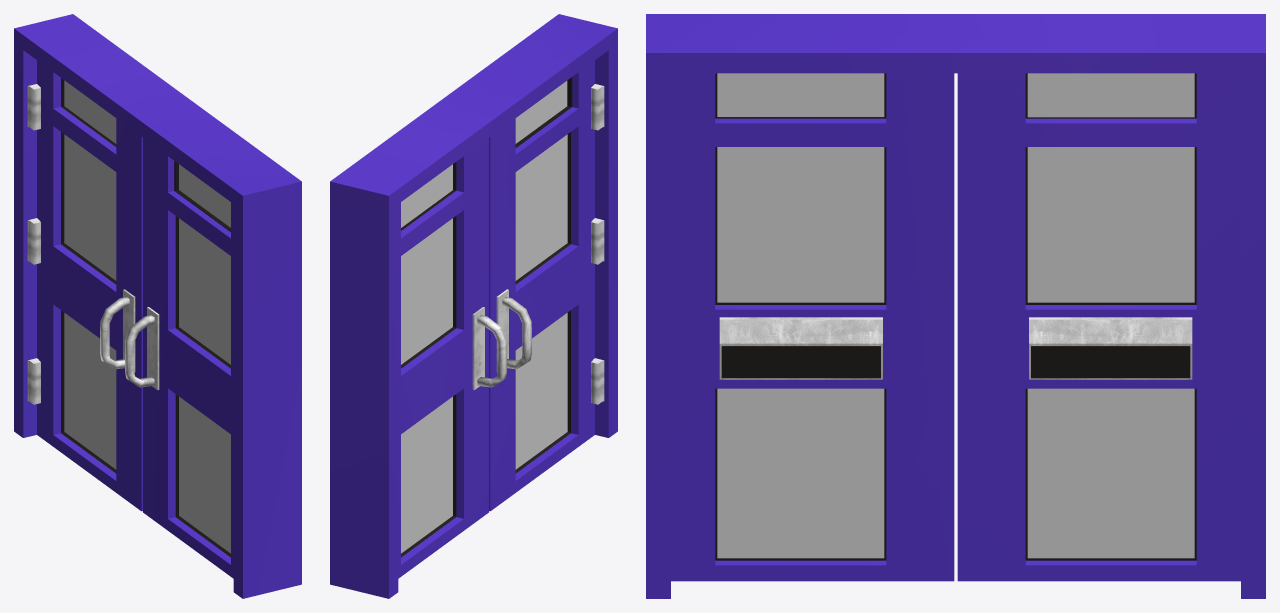
Rendered from LOD1 Double Door Purple.fbx.
3 renders of one model, left to right at view 1: azimuth 30°, elevation 25°; view 2: azimuth 150°, elevation 25°; view 3: azimuth 270°, elevation 25°, orthographic. The views are drawn at different scales.
Visible parts, largest first — view 1: NonBaked.004, NonBaked.006, NonBaked.007; view 2: NonBaked.004, NonBaked.007, NonBaked.006; view 3: NonBaked.006, NonBaked.007, NonBaked.004.
Part boxes in pixels (bbox=[...]): NonBaked.004: bbox=[14, 14, 301, 598]; NonBaked.006: bbox=[37, 60, 142, 511]; NonBaked.007: bbox=[125, 138, 233, 578]; NonBaked.004: bbox=[330, 14, 617, 598]; NonBaked.007: bbox=[489, 60, 594, 511]; NonBaked.006: bbox=[398, 138, 506, 578]; NonBaked.006: bbox=[957, 73, 1240, 581]; NonBaked.007: bbox=[671, 73, 954, 581]; NonBaked.004: bbox=[646, 14, 1265, 598].
Bounding box in the file's own units: 30.68 × 161 × 166.
